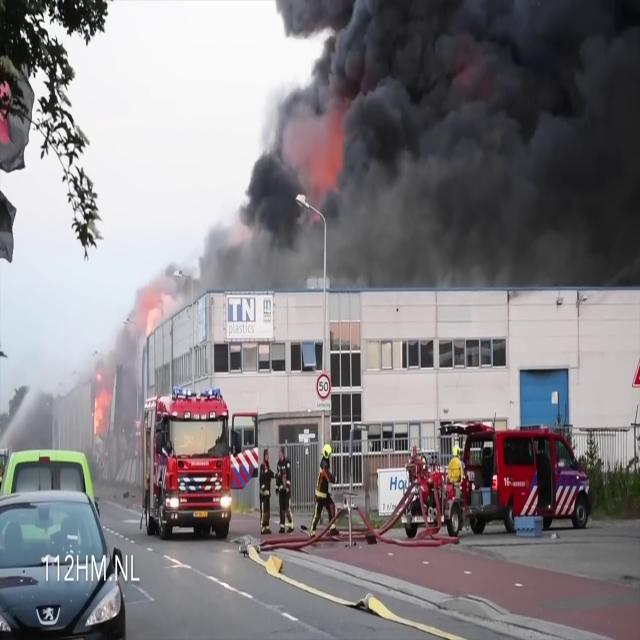Fire: (91, 370, 116, 458), (139, 282, 173, 346)
Smoke: (205, 0, 640, 299)
